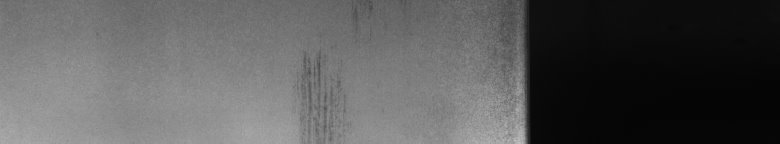ka: (294, 5, 373, 136)
